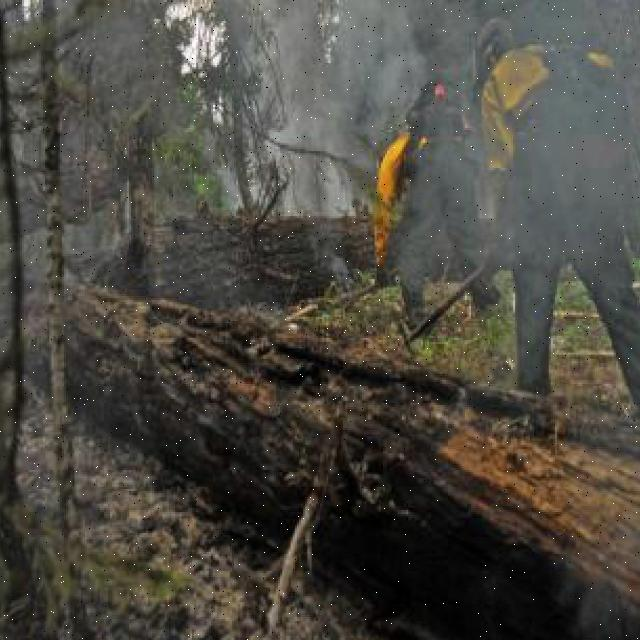smoke: (230, 21, 393, 232)
